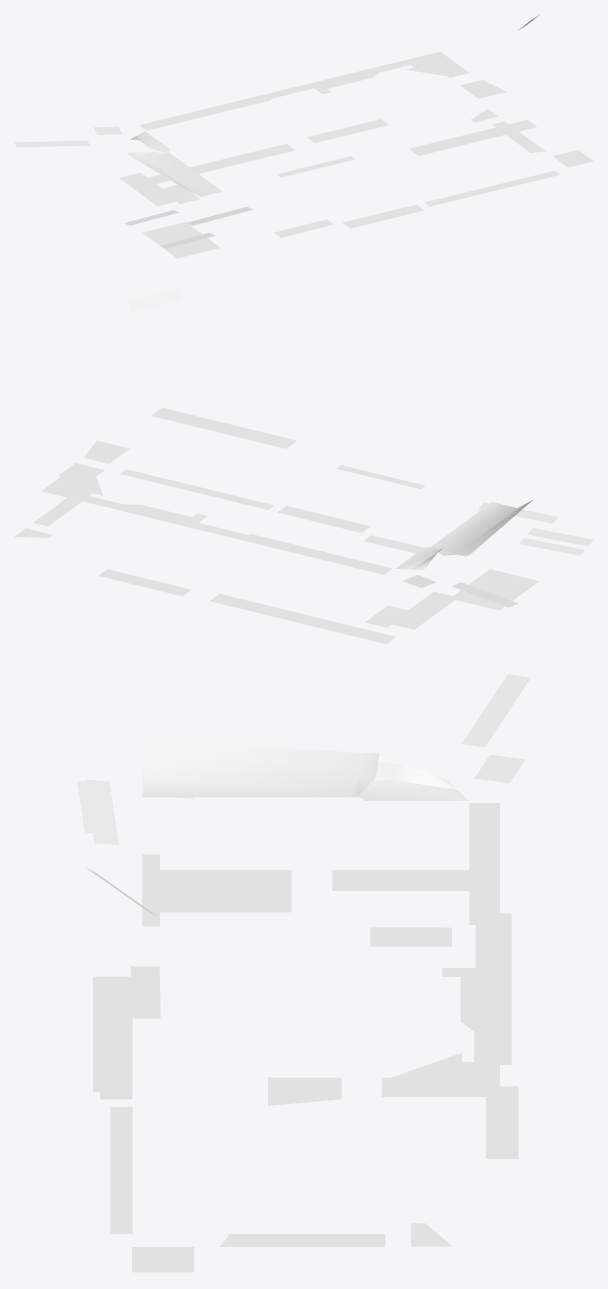
File: progenitor_derelict_01.glb
3 views of the same model, one above another, from view 1: azimuth 30°, elevation 25°; view 2: azimuth 150°, elevation 25°; view 3: azimuth 270°, elevation 25° (orthographic). The views are drawn at different scales.
Parts seen in each view (by area): view 1: progenitor_derelict_01_LOD0; view 2: progenitor_derelict_01_LOD0; view 3: progenitor_derelict_01_LOD0.
Part boxes in pixels (<box>): progenitor_derelict_01_LOD0: <box>14,15,593,258</box>; progenitor_derelict_01_LOD0: <box>14,288,593,643</box>; progenitor_derelict_01_LOD0: <box>77,674,530,1272</box>.
Size of what is drawn, in the model's own units: 39.19 by 12.82 by 15.95.
1 material, 1 textured.
